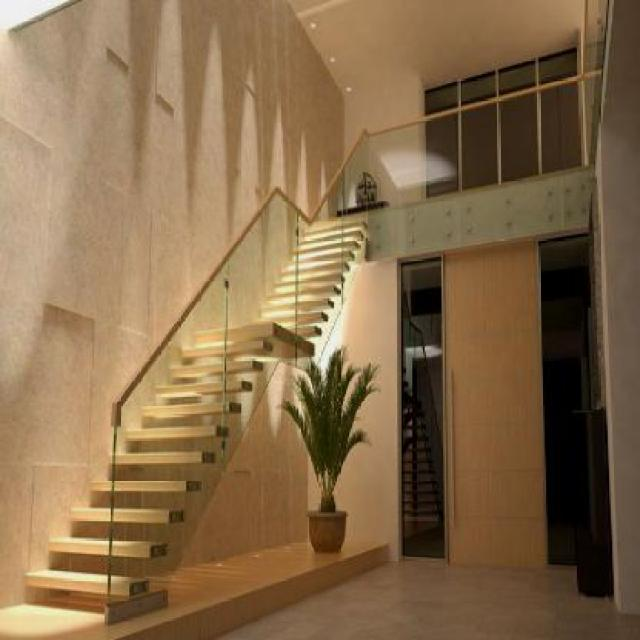stair: (29, 177, 363, 628)
